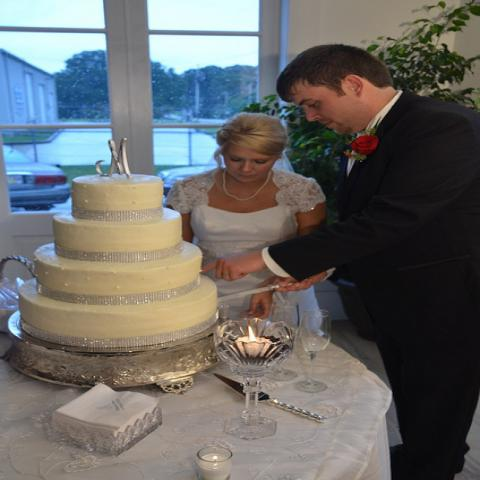car: (1, 143, 76, 212), (158, 156, 221, 198)
